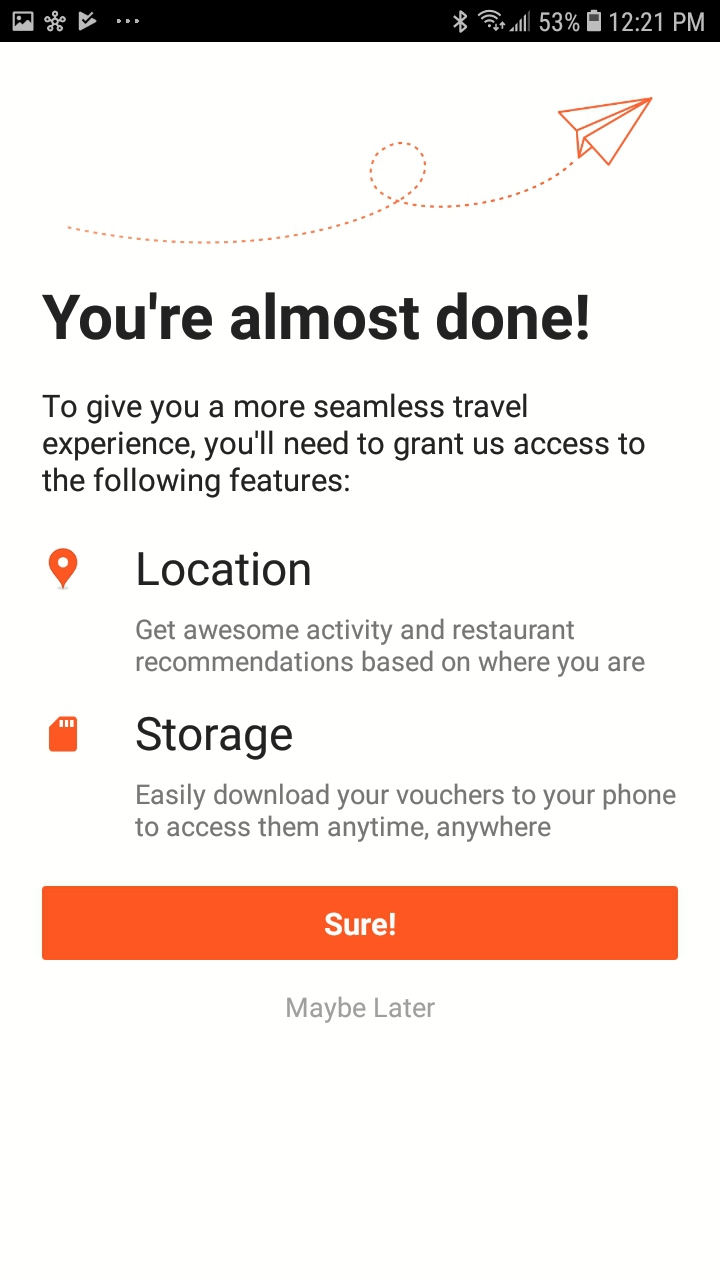Icon: (49, 548, 79, 590), (49, 716, 78, 753)
Image: (68, 98, 653, 246)
Text: (42, 393, 646, 499), (135, 783, 677, 843), (136, 619, 646, 678), (42, 292, 588, 342), (136, 716, 293, 761), (138, 551, 311, 586), (287, 995, 436, 1023)
TextButton: (42, 886, 678, 961)
UpperTaskBar: (1, 1, 720, 43)
